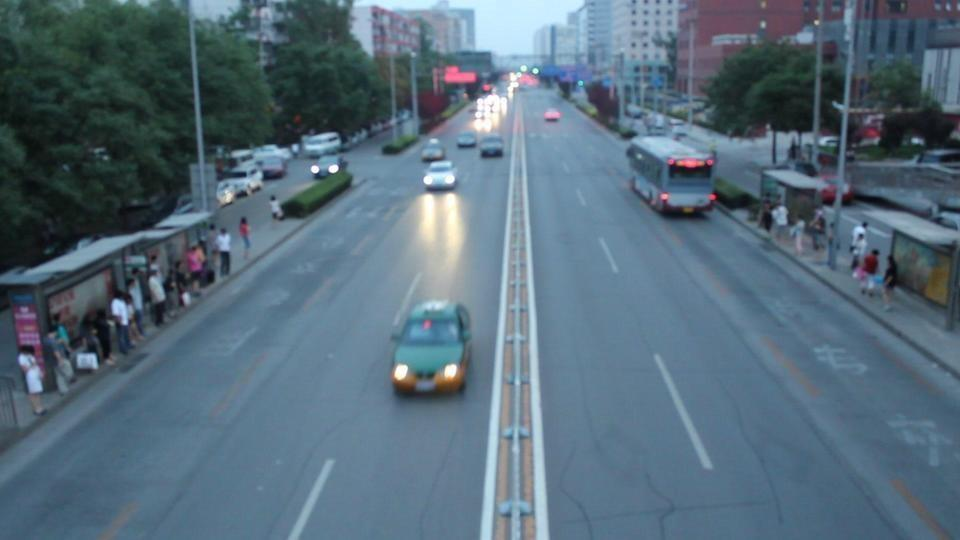car: (389, 300, 473, 395), (276, 167, 352, 220), (216, 172, 263, 201), (300, 131, 342, 158), (253, 149, 288, 180), (423, 162, 458, 191), (916, 147, 960, 168), (309, 156, 340, 179), (420, 139, 445, 163), (479, 136, 504, 158), (457, 131, 477, 148), (543, 109, 561, 122)
